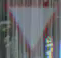Give way: (5, 1, 55, 52)
